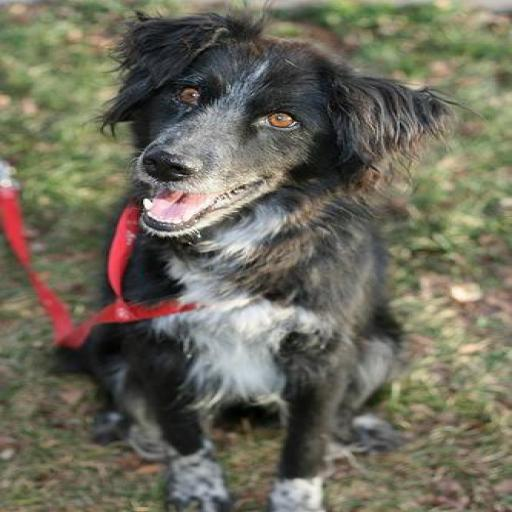dog_face: (109, 20, 460, 234)
